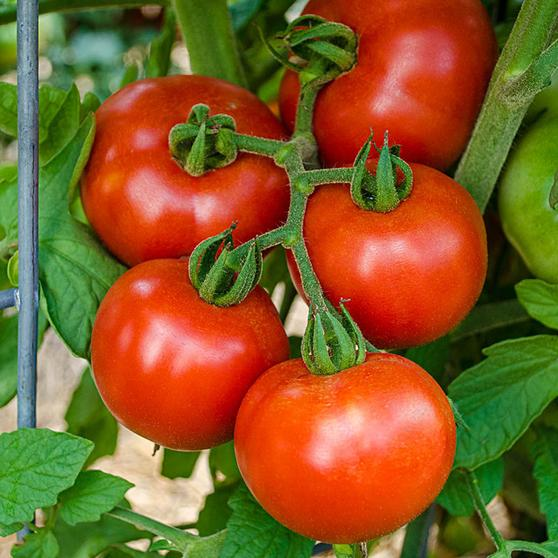tomato: (235, 341, 462, 548), (84, 77, 308, 266), (284, 1, 508, 175), (92, 256, 295, 445), (306, 163, 500, 345)
